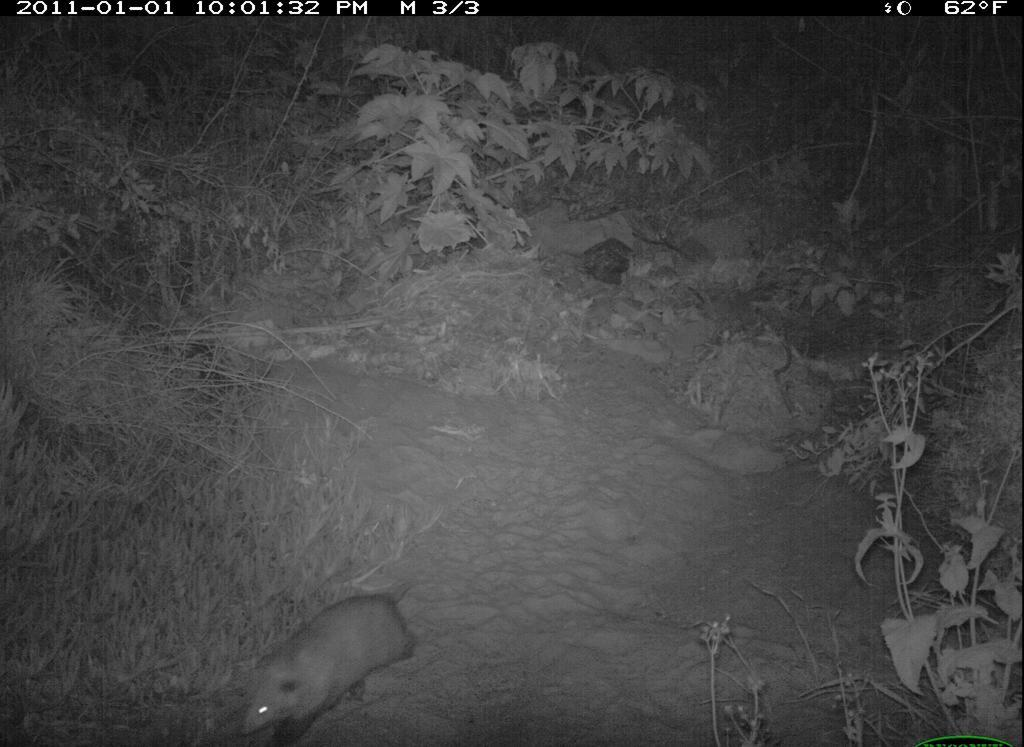opossum: (226, 562, 437, 747)
